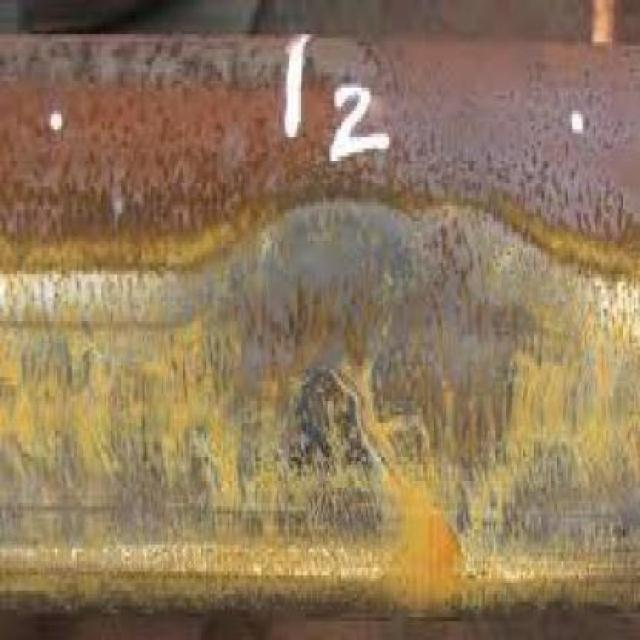defective: (112, 34, 603, 628)
